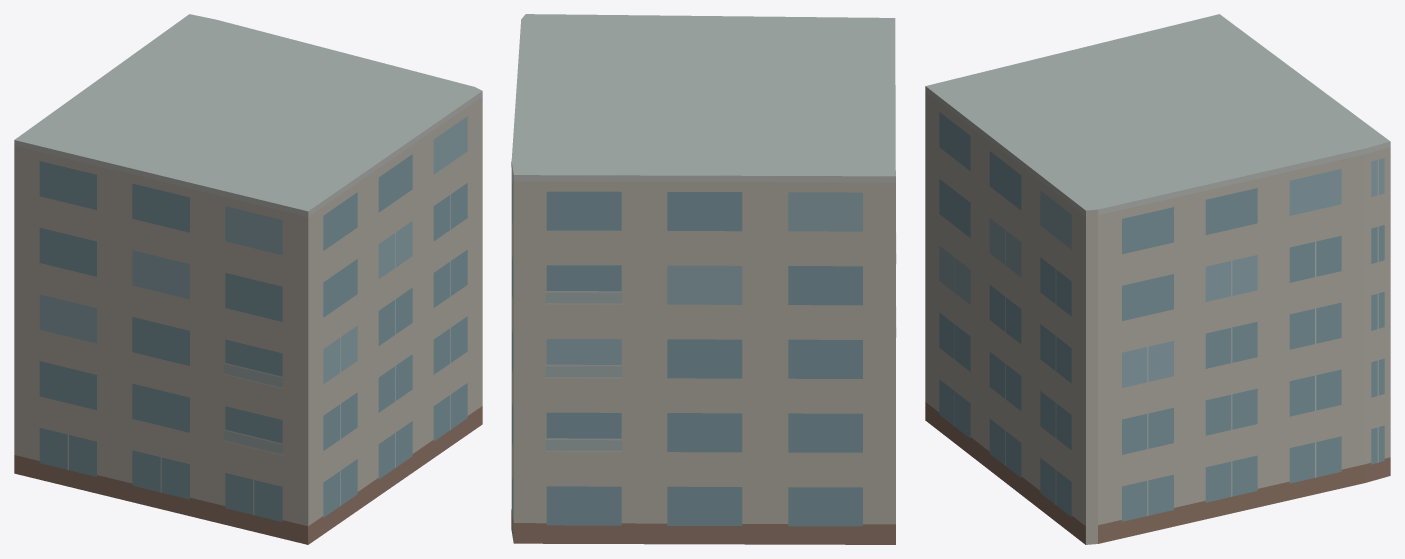
File: survey-upis-32475260.glb
The picture shows the model from 3 angles, left to right: view 1: azimuth 30°, elevation 25°; view 2: azimuth 150°, elevation 25°; view 3: azimuth 270°, elevation 25°; orthographic projection. The views are drawn at different scales.
Parts seen in each view (by area): view 1: survey-upis-32475260.tmp; view 2: survey-upis-32475260.tmp; view 3: survey-upis-32475260.tmp.
Part boxes in pixels (<box>): survey-upis-32475260.tmp: <box>14,14,482,544</box>; survey-upis-32475260.tmp: <box>511,14,896,544</box>; survey-upis-32475260.tmp: <box>925,14,1390,544</box>.
Size of the model in its own units: 18.18 by 14.42 by 18.19.
